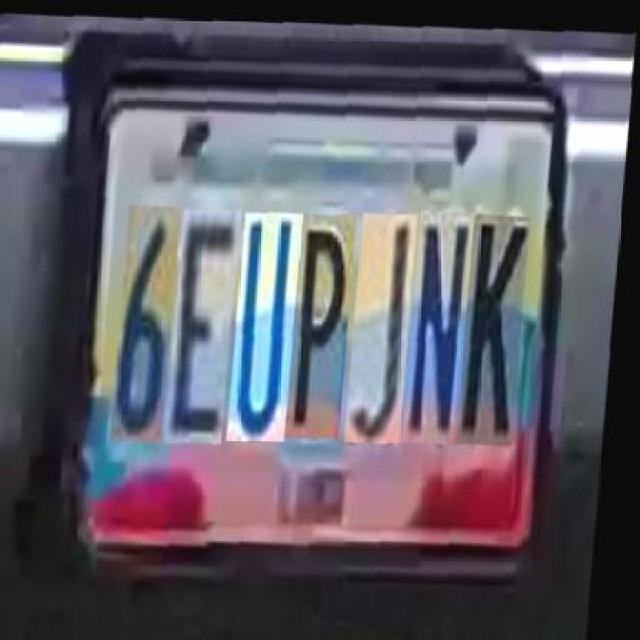6: (117, 195, 185, 432)
e: (171, 198, 244, 434)
j: (351, 204, 422, 436)
k: (461, 207, 534, 438)
n: (408, 202, 478, 436)
p: (292, 204, 361, 430)
u: (232, 202, 306, 433)
